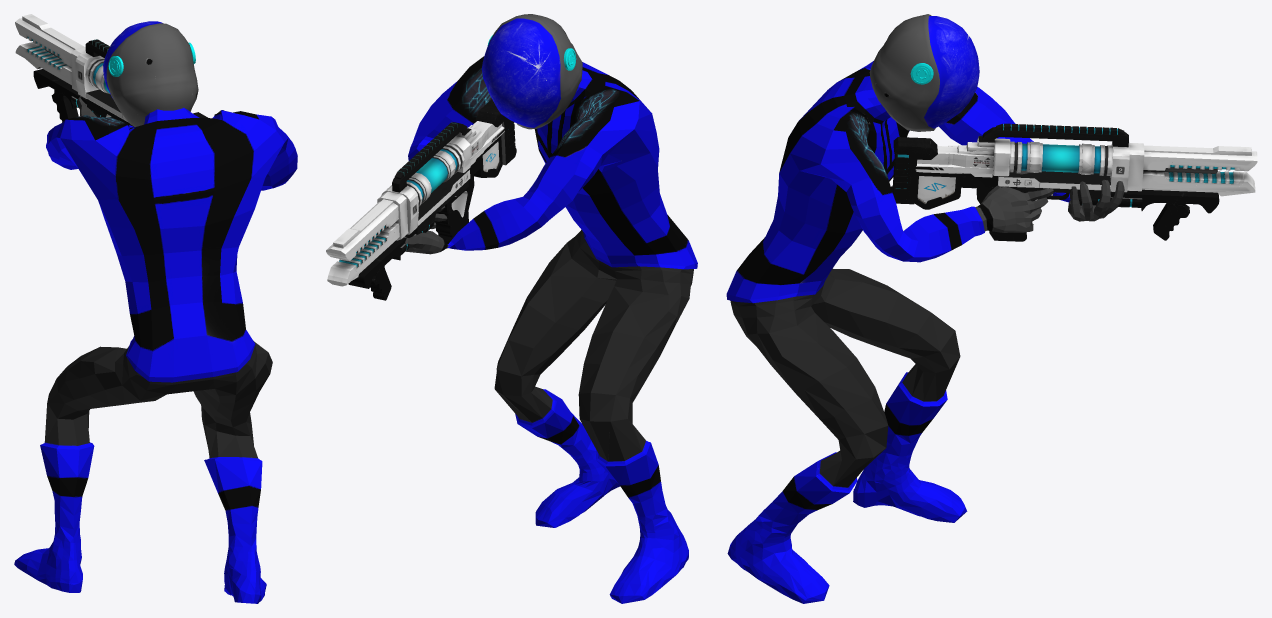
3 renders of one model, left to right at view 1: azimuth 30°, elevation 25°; view 2: azimuth 150°, elevation 25°; view 3: azimuth 270°, elevation 25°, orthographic. The views are drawn at different scales.
Visible parts, largest first — view 1: Brazos2, Piernas1, Cabeza1, Line0011; view 2: Piernas1, Brazos2, Line0011, Cabeza1; view 3: Piernas1, Brazos2, Line0011, Cabeza1.
Part boxes in pixels (box(x1,y1,x2,y2)): Brazos2: box(46, 96, 297, 382); Piernas1: box(14, 340, 272, 603); Cabeza1: box(103, 21, 198, 126); Line0011: box(15, 14, 207, 126); Piernas1: box(494, 230, 693, 603); Brazos2: box(403, 56, 697, 269); Line0011: box(326, 99, 516, 300); Cabeza1: box(481, 14, 582, 129); Piernas1: box(727, 268, 967, 603); Brazos2: box(726, 61, 1128, 303); Line0011: box(891, 123, 1257, 241); Cabeza1: box(869, 14, 979, 131).
Size of the model in its own units: 72.97 by 148 by 127.
